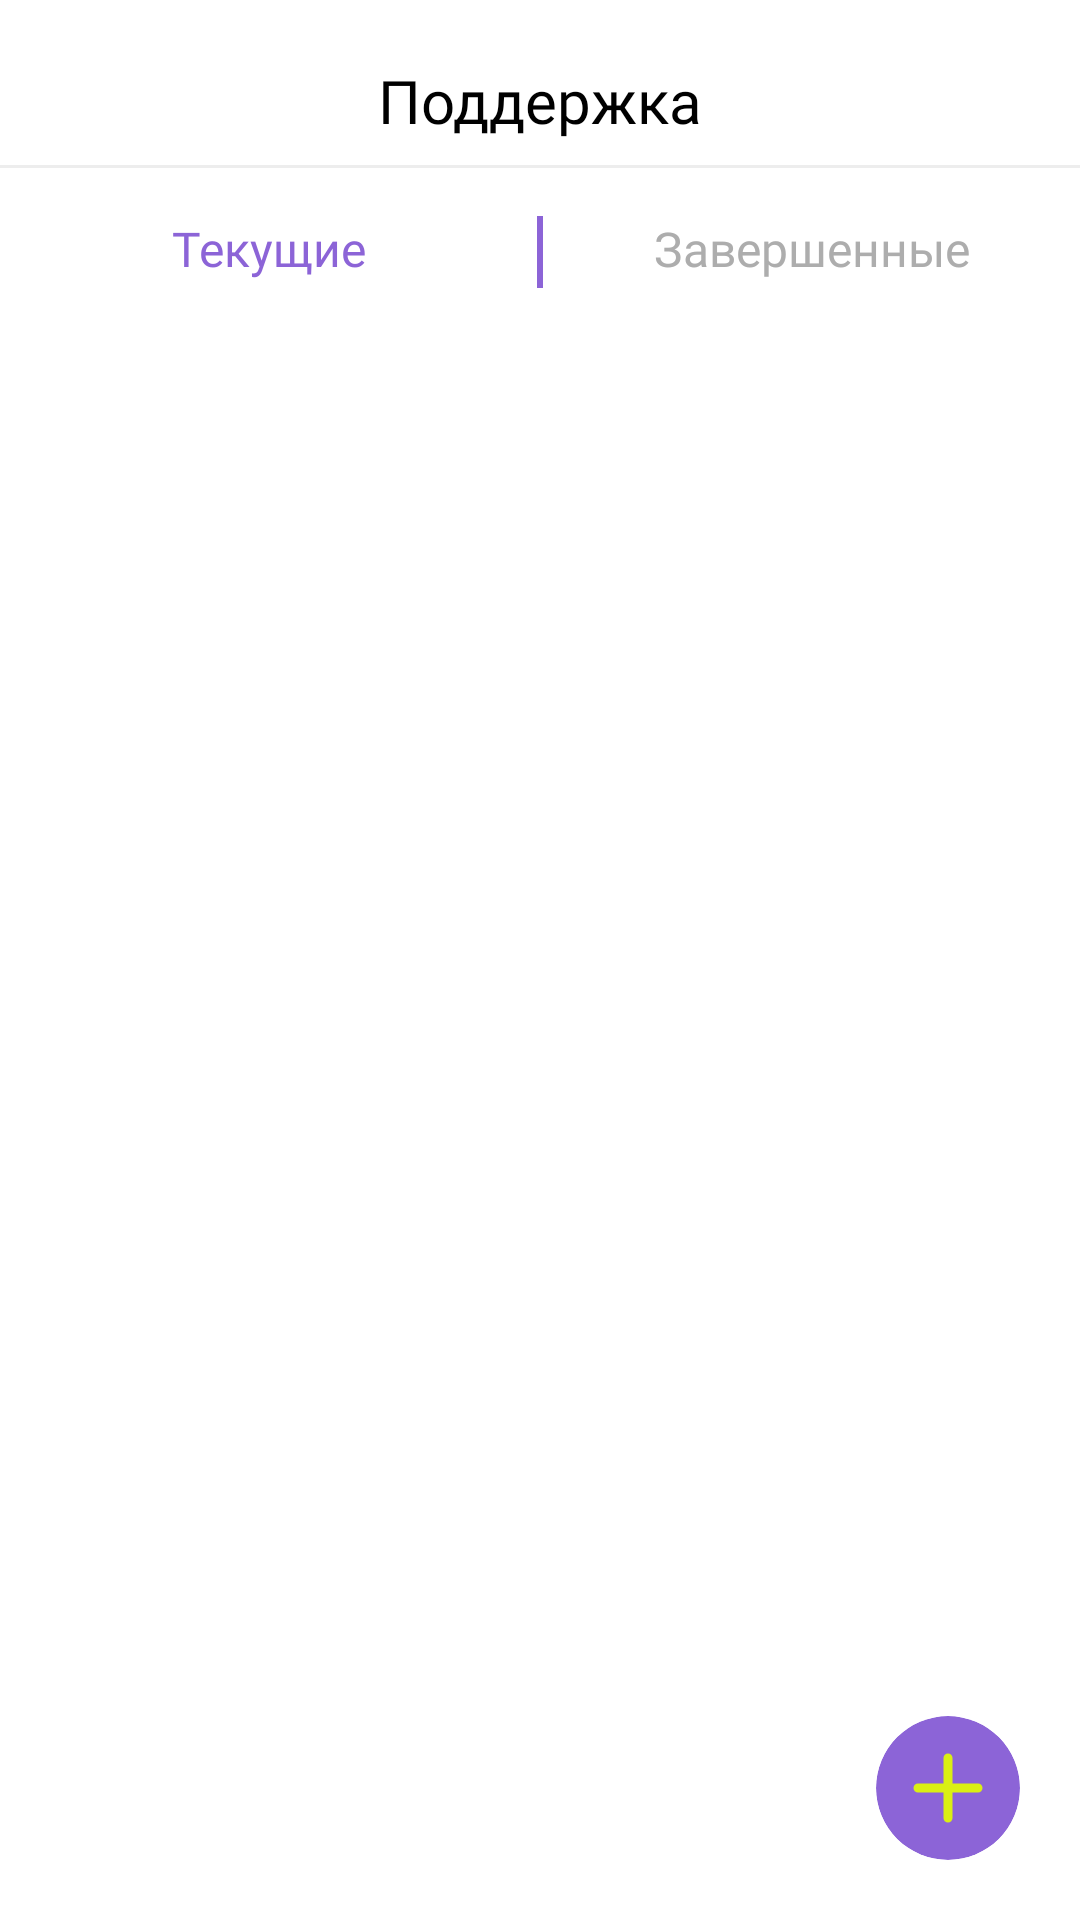

Where icons sit on this 1080px x 1920px app screen, as (x1, y1, x2, y2):
plus: (876, 1716, 1020, 1860)
